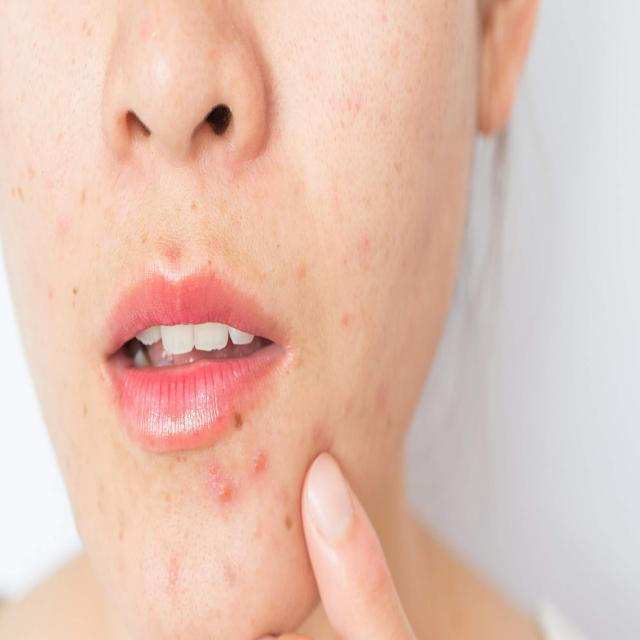Acne: (204, 408, 334, 582), (333, 178, 417, 442), (10, 160, 89, 314), (164, 558, 186, 591), (296, 262, 313, 292)
